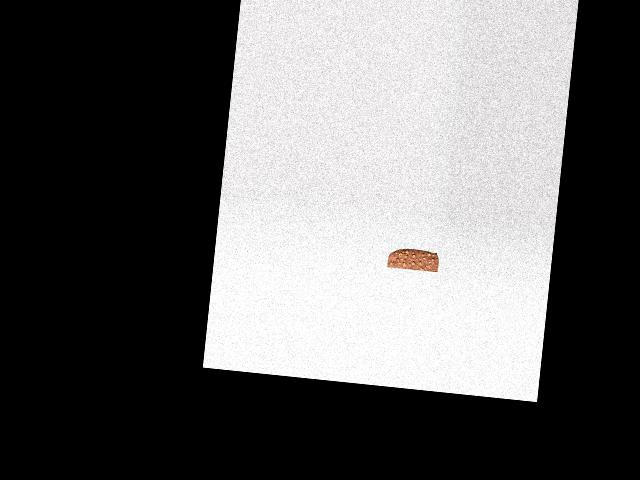chocolate: (386, 243, 440, 274)
